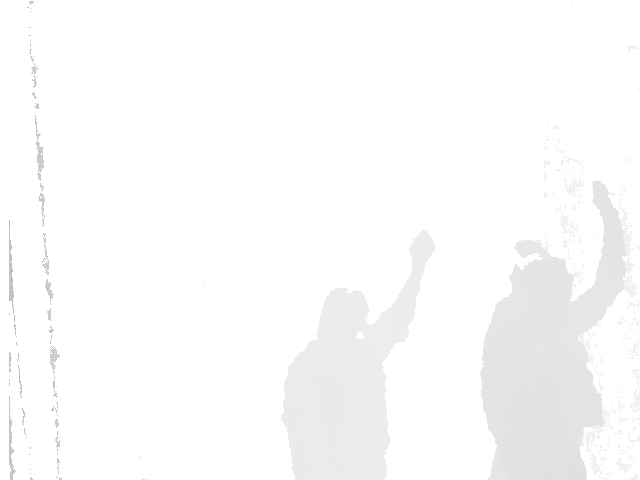hand: (408, 230, 436, 268), (591, 182, 617, 213)
head: (509, 240, 576, 313), (316, 288, 368, 342)
person: (478, 182, 627, 480), (277, 230, 437, 480)
